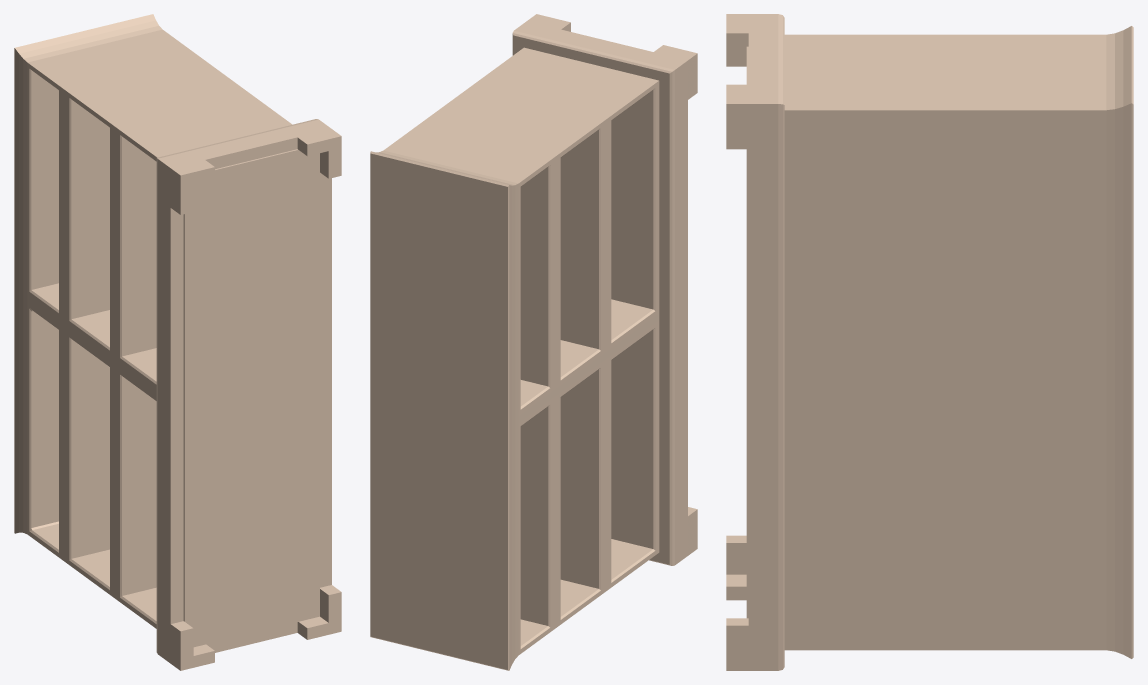
Rendered from DrawsUnit.fbx.
3 views of the same model, side by side, from view 1: azimuth 30°, elevation 25°; view 2: azimuth 150°, elevation 25°; view 3: azimuth 270°, elevation 25° (orthographic). The views are drawn at different scales.
Visible parts, largest first — view 1: DrawsUnit; view 2: DrawsUnit; view 3: DrawsUnit.
Boxes of the visible parts, x1,y1,x2,y2 form: DrawsUnit: (14, 14, 341, 670); DrawsUnit: (370, 14, 697, 670); DrawsUnit: (726, 14, 1133, 670).
Bounding box in the file's own units: 58.1 × 171 × 111.
